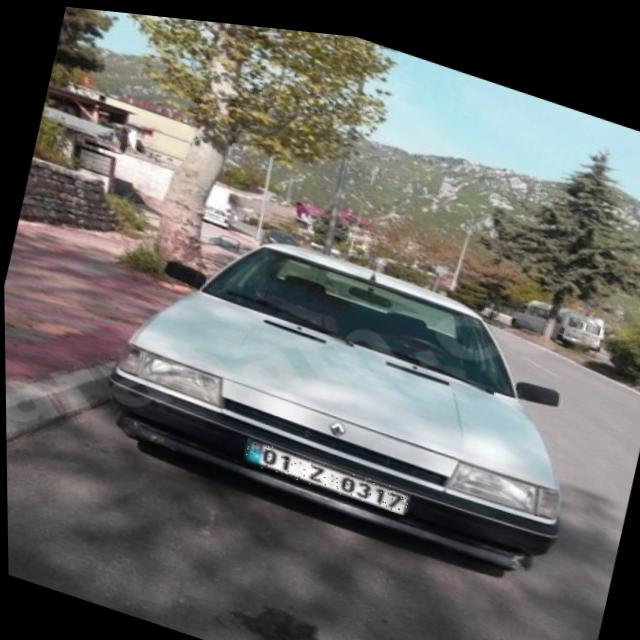license_plate: (240, 432, 410, 508)
